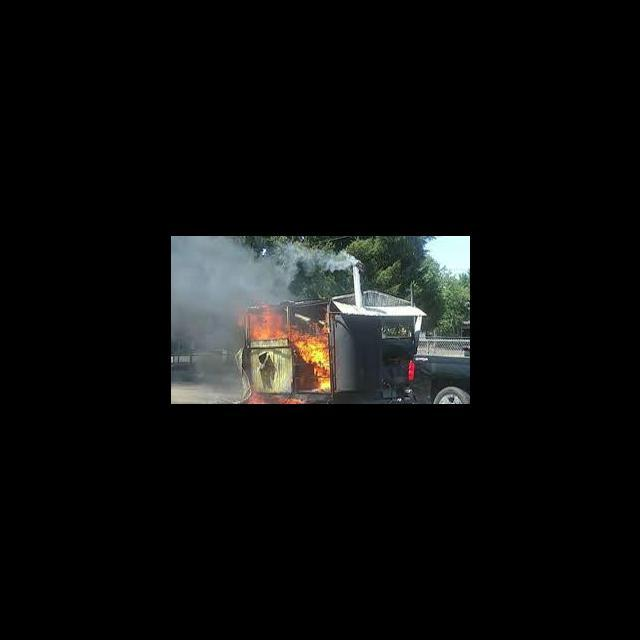Fire: (246, 300, 334, 395)
Smoke: (172, 236, 354, 301), (170, 302, 243, 398)
